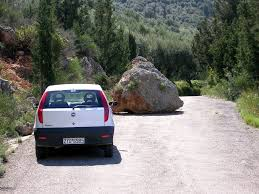car: (33, 78, 121, 158)
obstacle: (109, 54, 187, 117)
